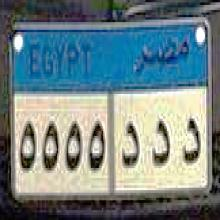5: (63, 119, 84, 178), (18, 115, 38, 176), (86, 120, 107, 176), (40, 120, 61, 175)
daal: (176, 117, 202, 169), (118, 119, 142, 175), (148, 119, 172, 174)
